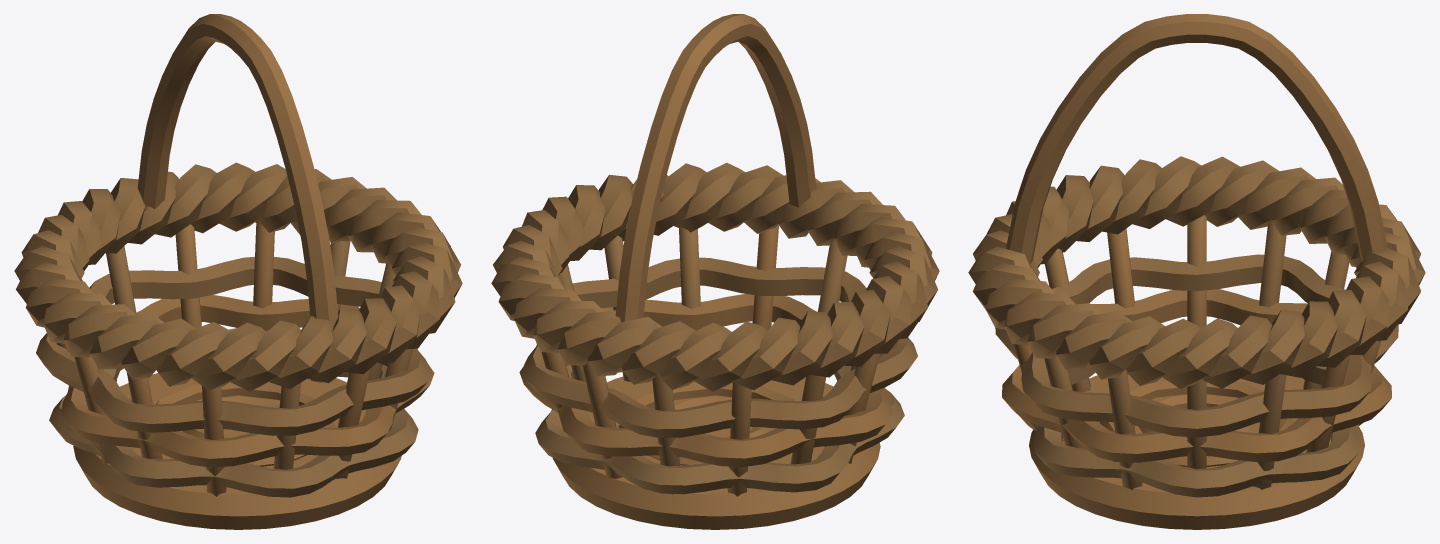
The model's file is library_basket_0.glb.
3 renders of one model, left to right at view 1: azimuth 30°, elevation 25°; view 2: azimuth 150°, elevation 25°; view 3: azimuth 270°, elevation 25°, orthographic.
Parts seen in each view (by area): view 1: Sammel Stoff; view 2: Sammel Stoff; view 3: Sammel Stoff.
Part boxes in pixels (left/top/right/bottom): Sammel Stoff: left=14, top=14, right=462, bottom=529; Sammel Stoff: left=491, top=14, right=939, bottom=529; Sammel Stoff: left=968, top=14, right=1425, bottom=529.
Size of the model in its own units: 0.185 by 0.1998 by 0.185.
